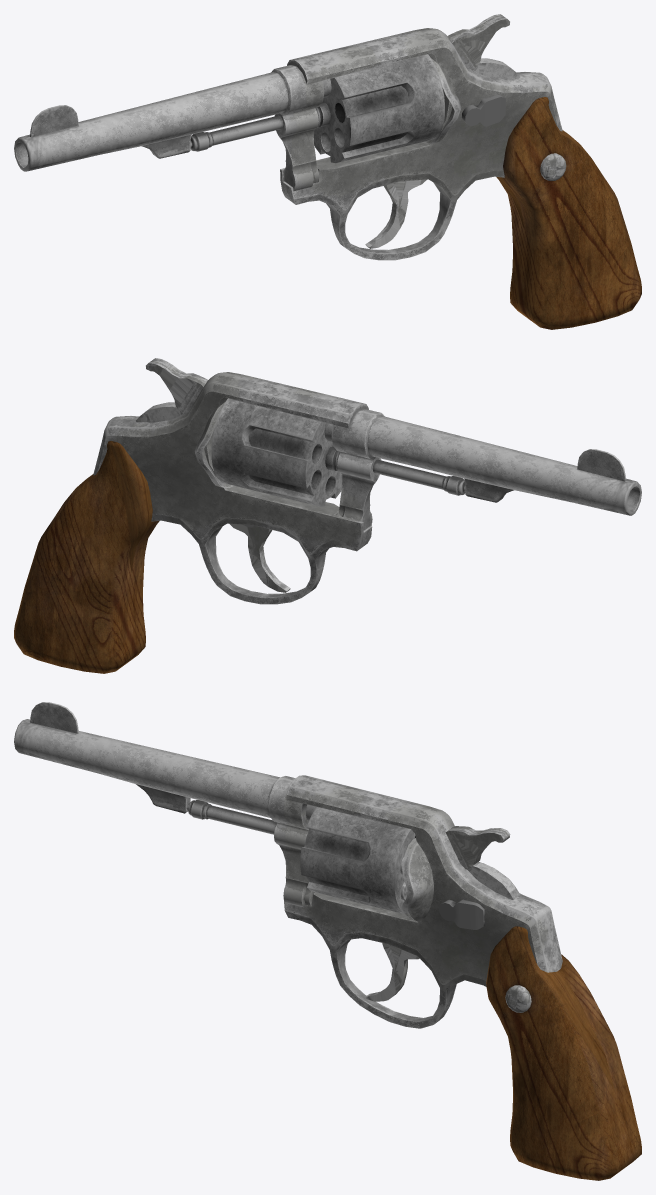
Rendered from Revolver.fbx.
The picture shows the model from 3 angles, top to bottom: view 1: azimuth 30°, elevation 25°; view 2: azimuth 150°, elevation 25°; view 3: azimuth 330°, elevation 25°; orthographic projection.
Visible parts, largest first — view 1: Revolver; view 2: Revolver; view 3: Revolver.
Boxes of the visible parts, bbox=[...] form: Revolver: bbox=[14, 14, 641, 329]; Revolver: bbox=[14, 358, 641, 673]; Revolver: bbox=[14, 702, 641, 1180].
Size of the model in its own units: 40 by 20.62 by 5.69.
